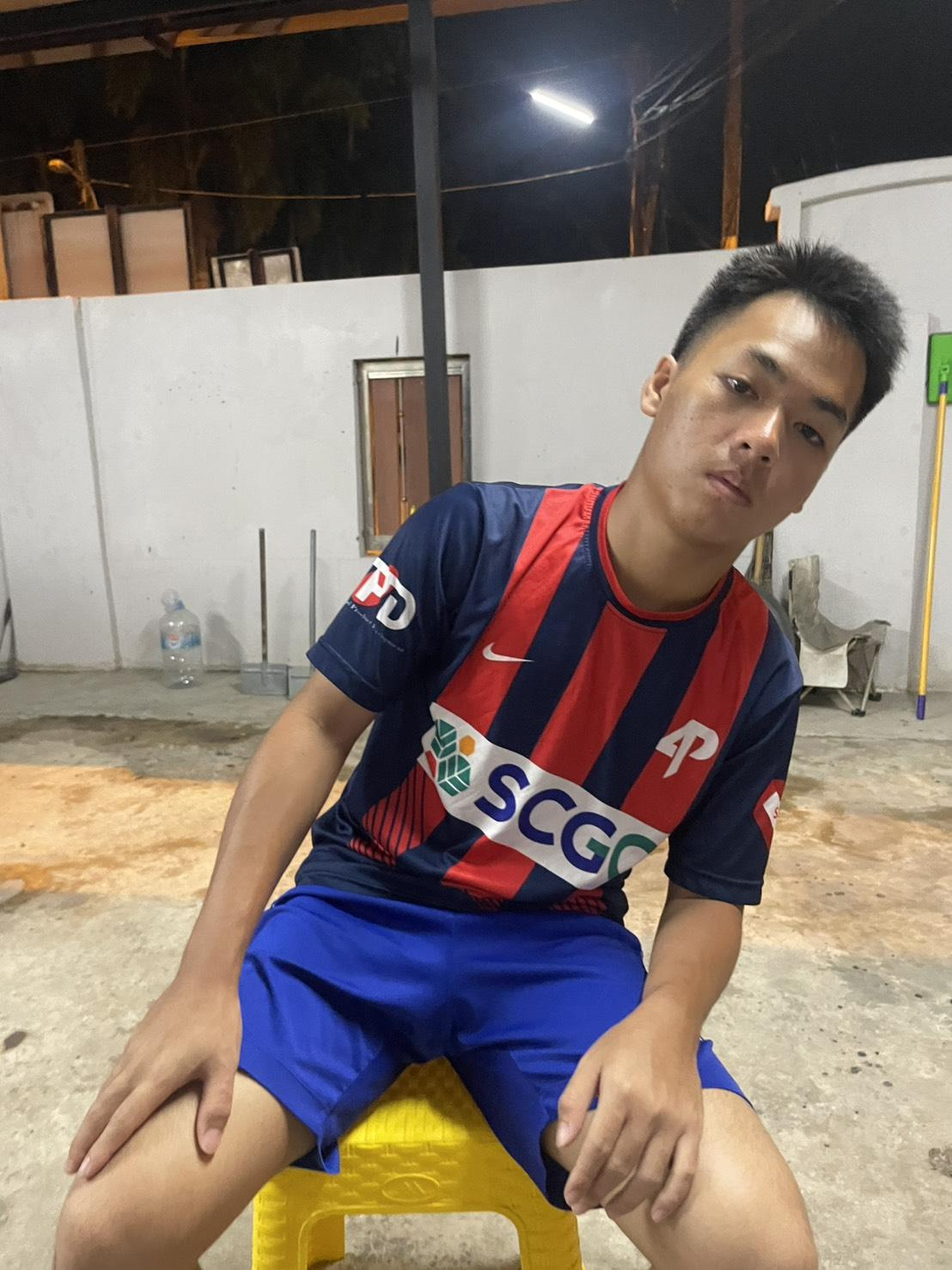BadPosture: (212, 240, 904, 950)
